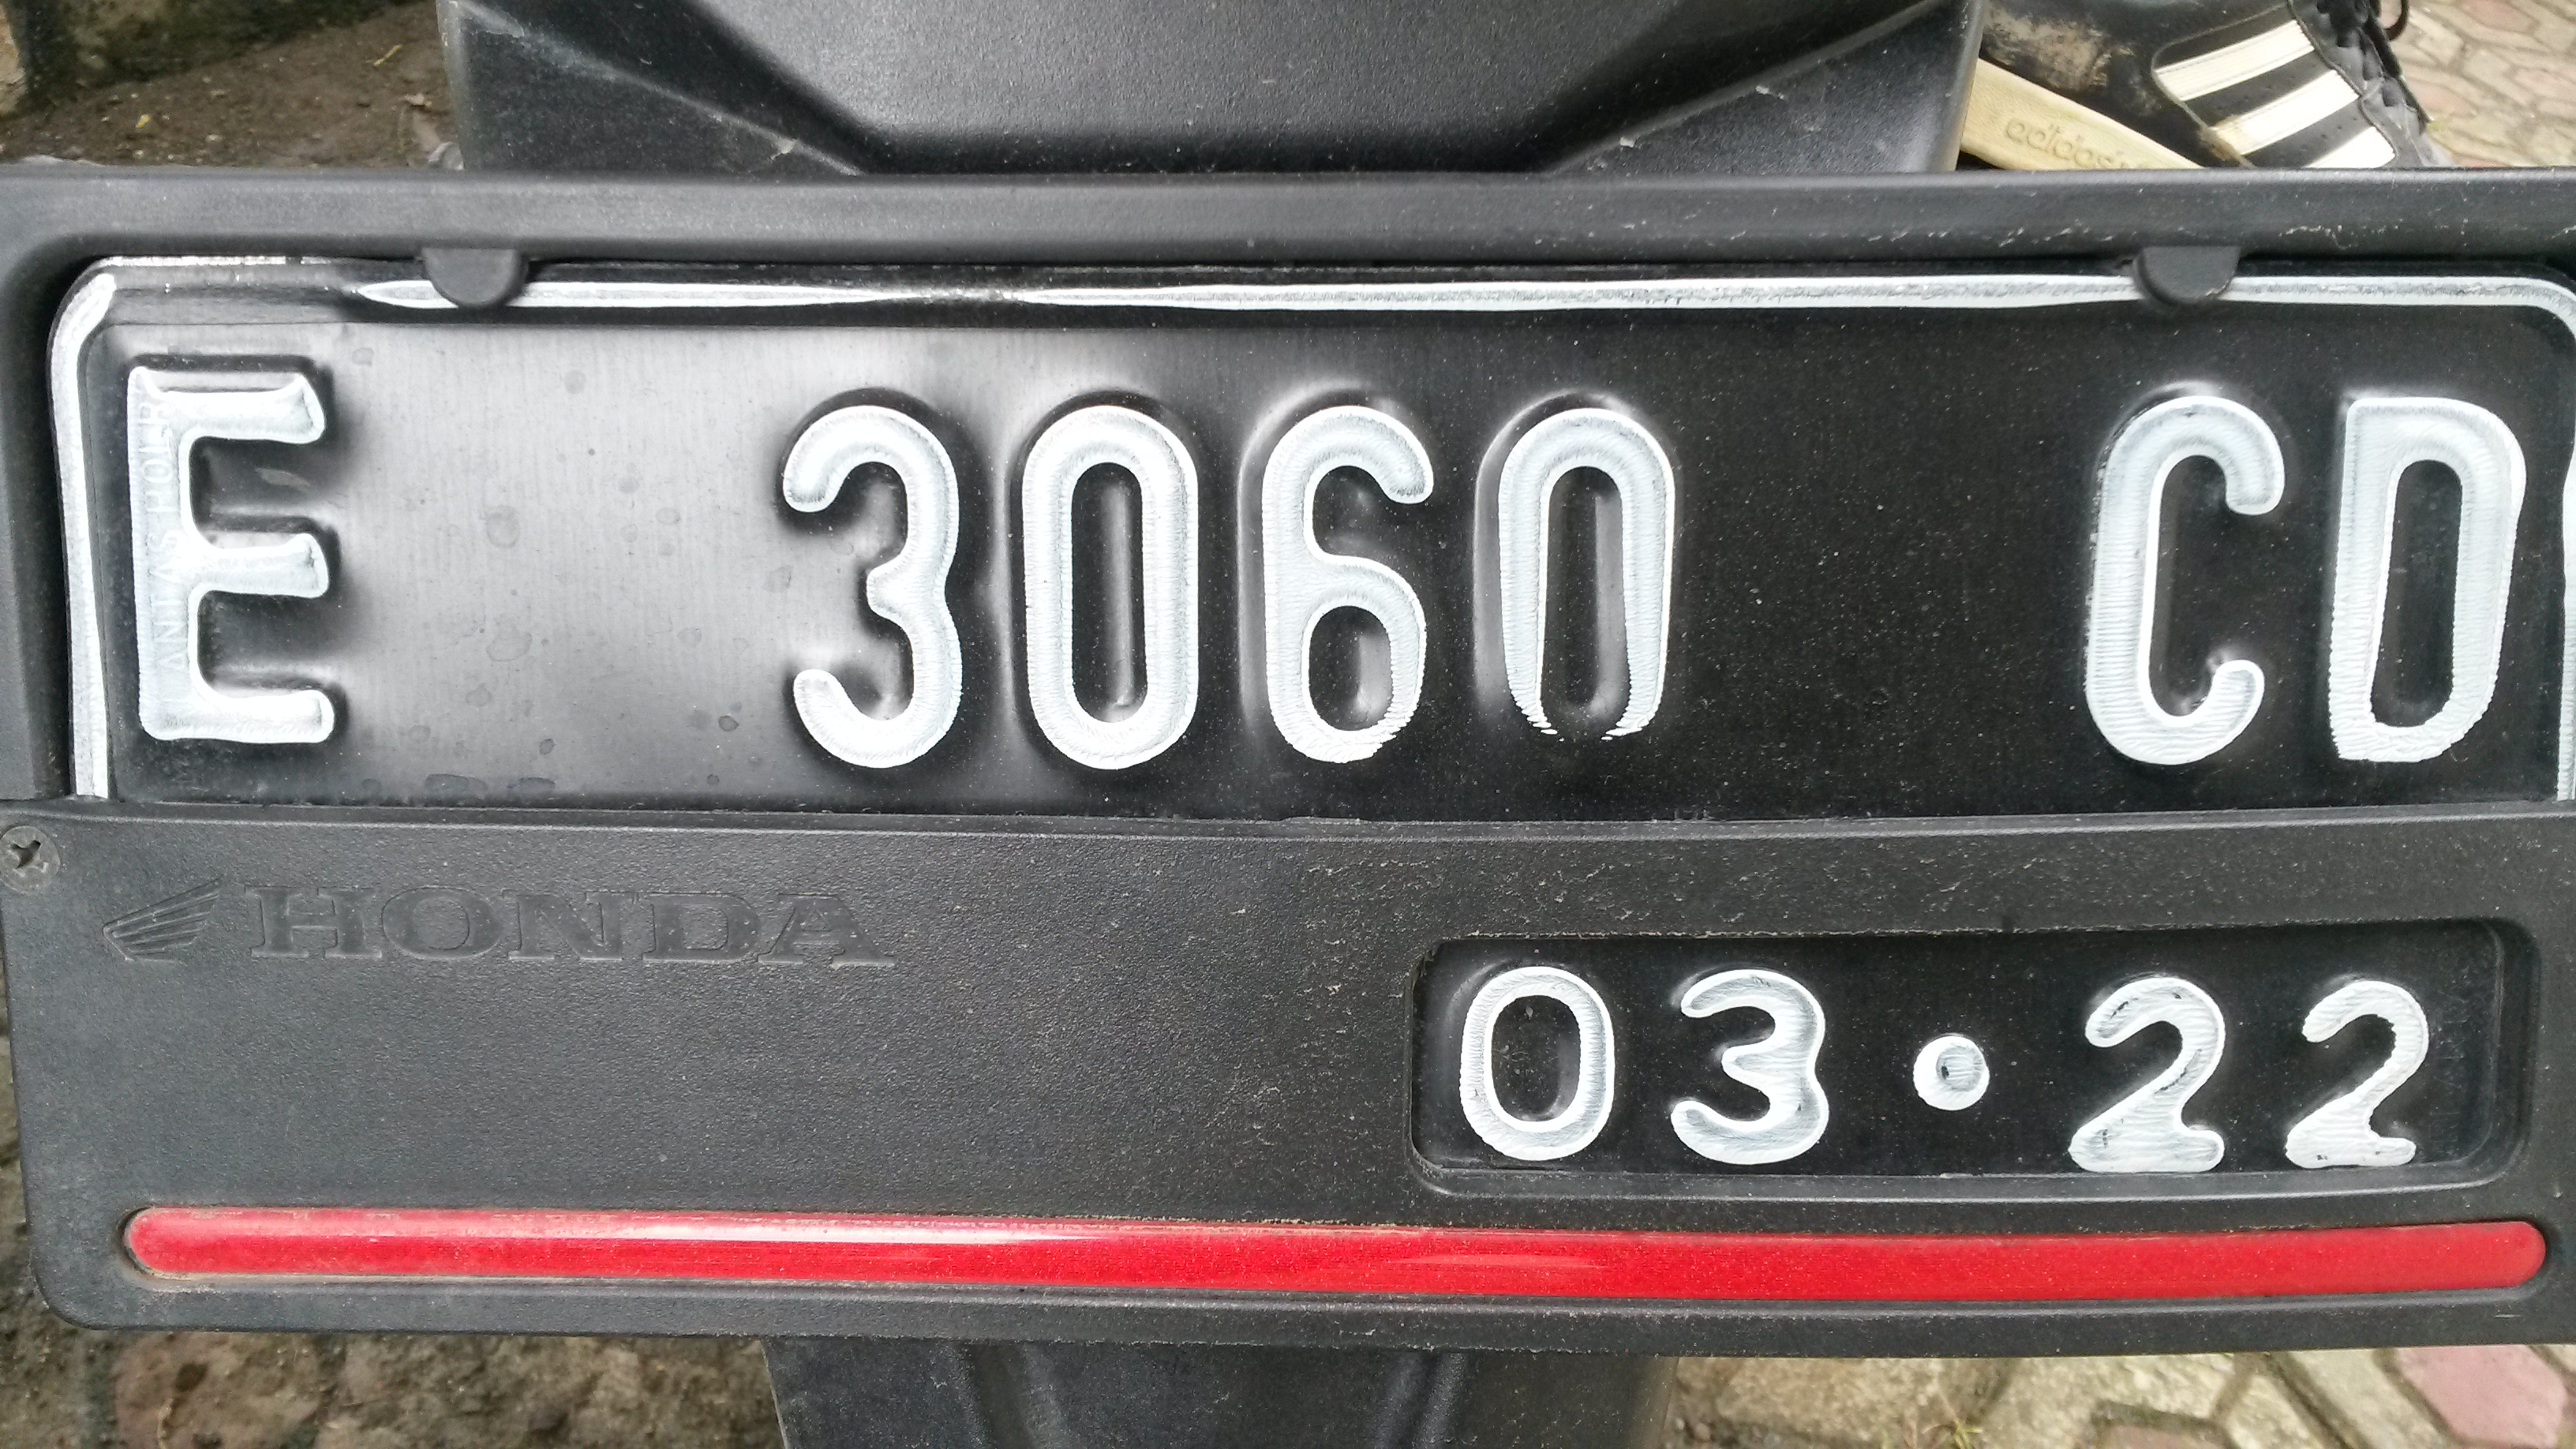plate: (33, 245, 2576, 1215)
